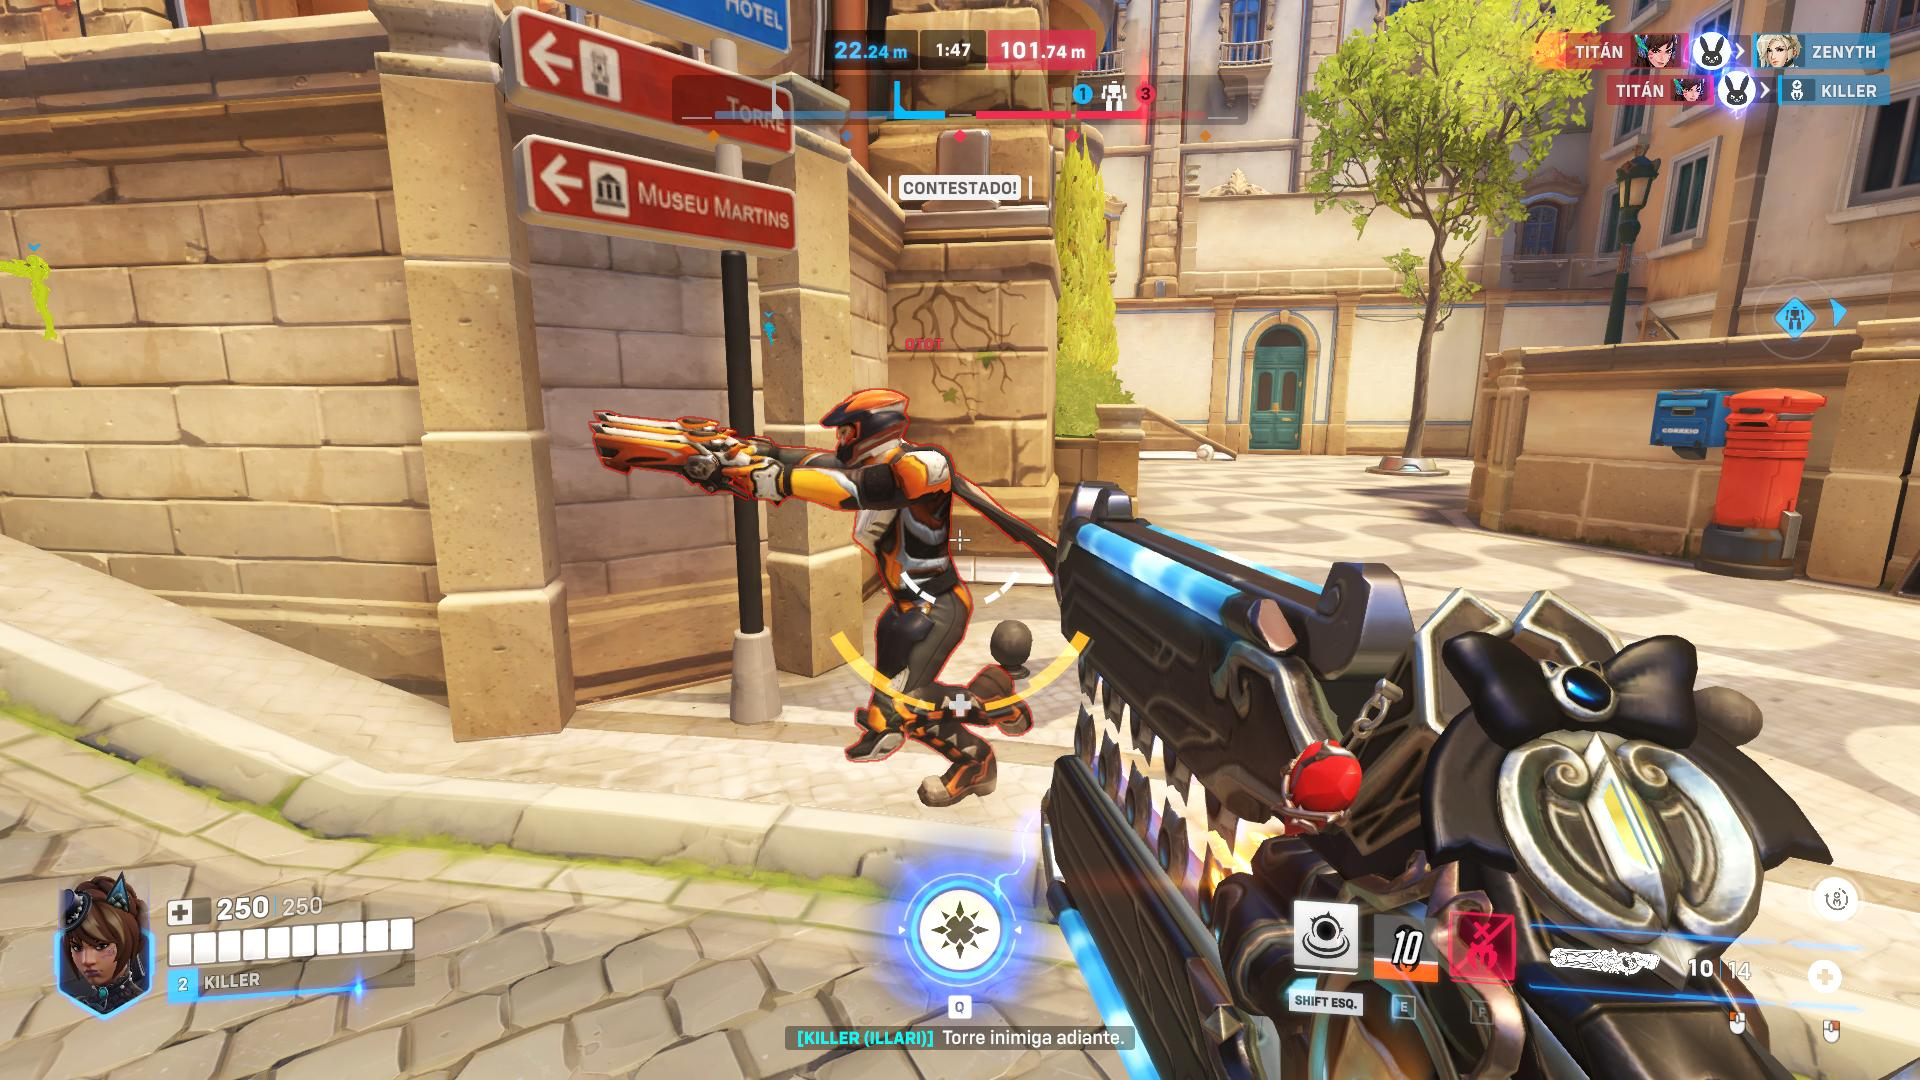enemy: (819, 388, 1034, 810)
